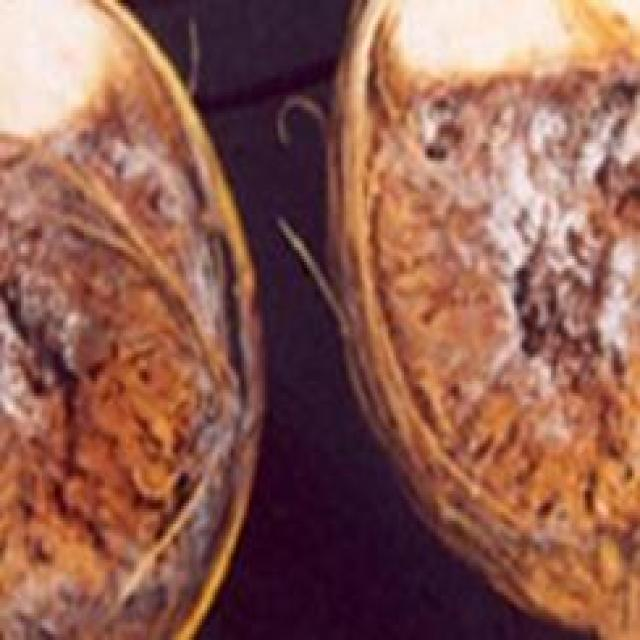damaged: (328, 0, 637, 637)
